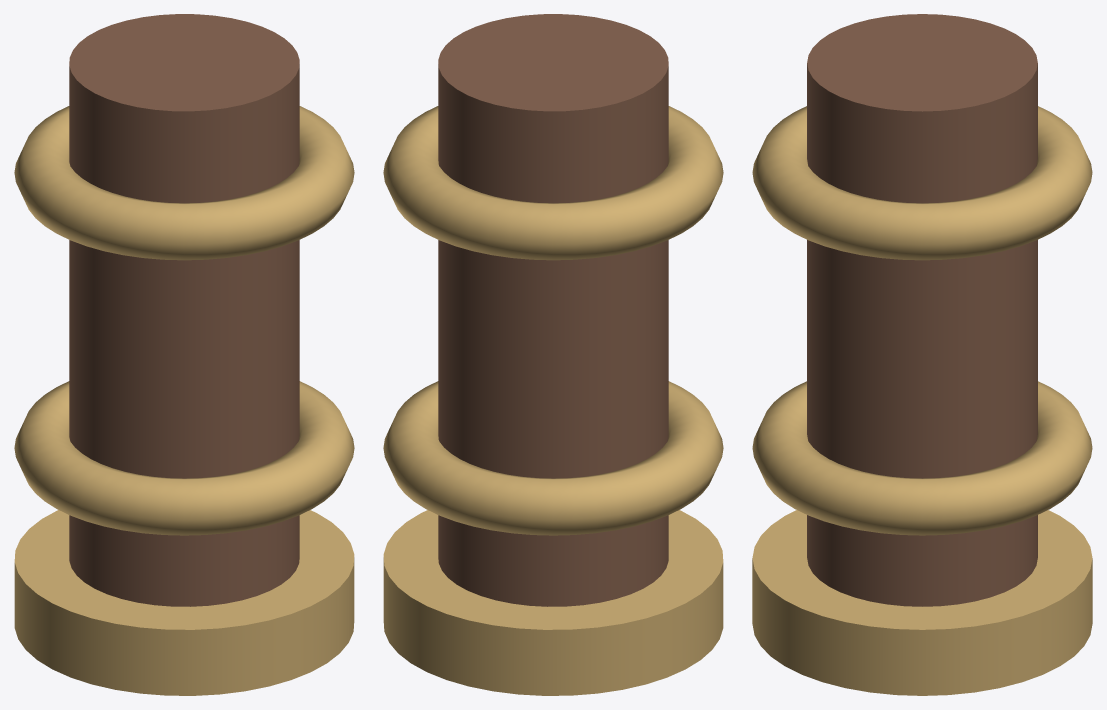
The model's file is griffin-airmail-roost-and-posthouse-seal-stamp-c0d5b2a5__30519.glb.
3 views of the same model, side by side, from view 1: azimuth 30°, elevation 25°; view 2: azimuth 150°, elevation 25°; view 3: azimuth 270°, elevation 25° (orthographic).
Parts seen in each view (by area): view 1: seal-stamp; view 2: seal-stamp; view 3: seal-stamp.
Boxes of the visible parts, x1,y1,x2,y2 form: seal-stamp: (14,14,354,695); seal-stamp: (383,14,723,695); seal-stamp: (752,14,1092,695).
Bounding box in the file's own units: 0.056 × 0.102 × 0.056.
